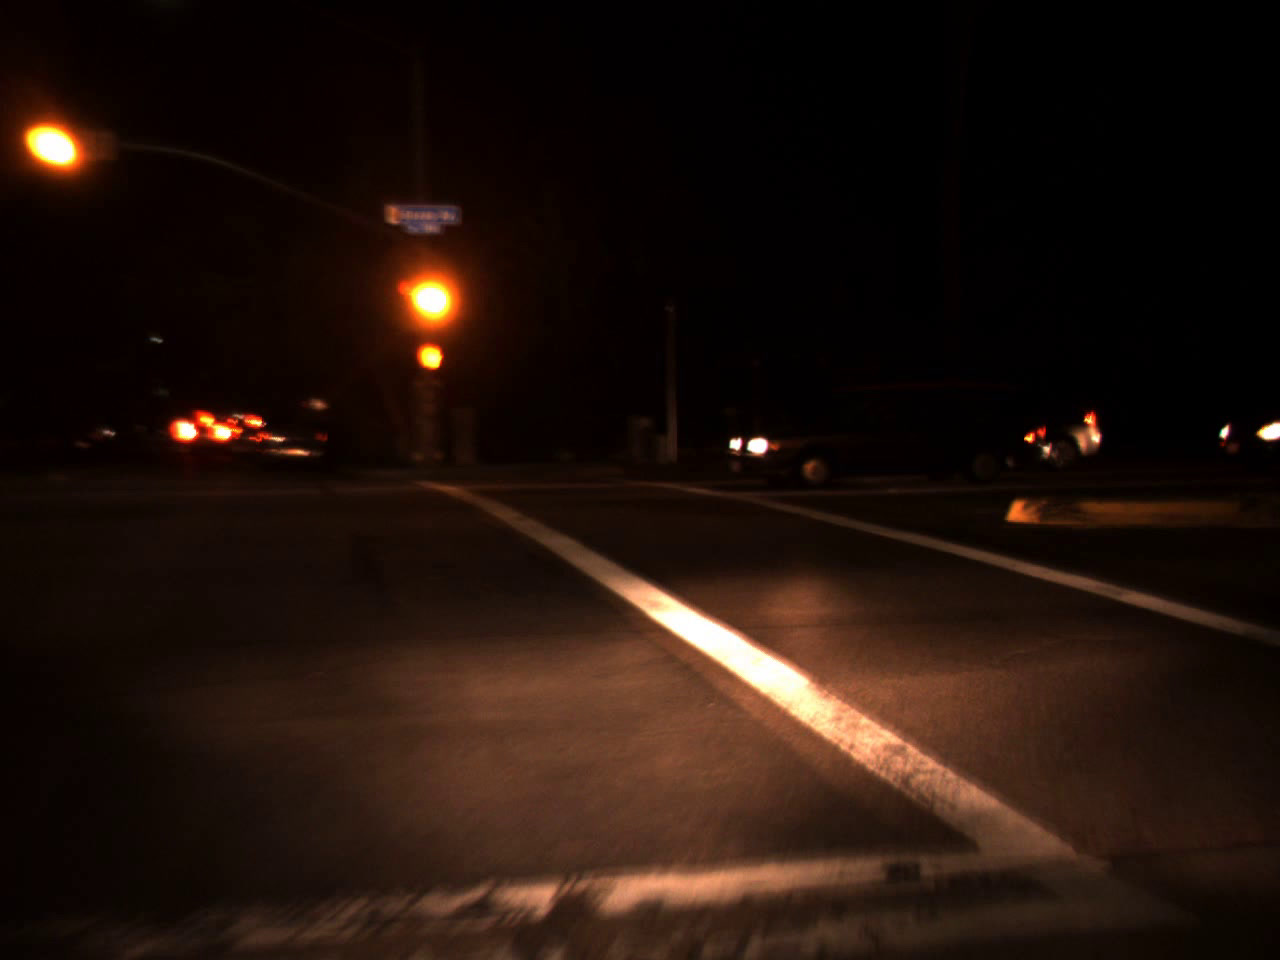warning: (33, 115, 75, 177), (408, 269, 451, 326)
